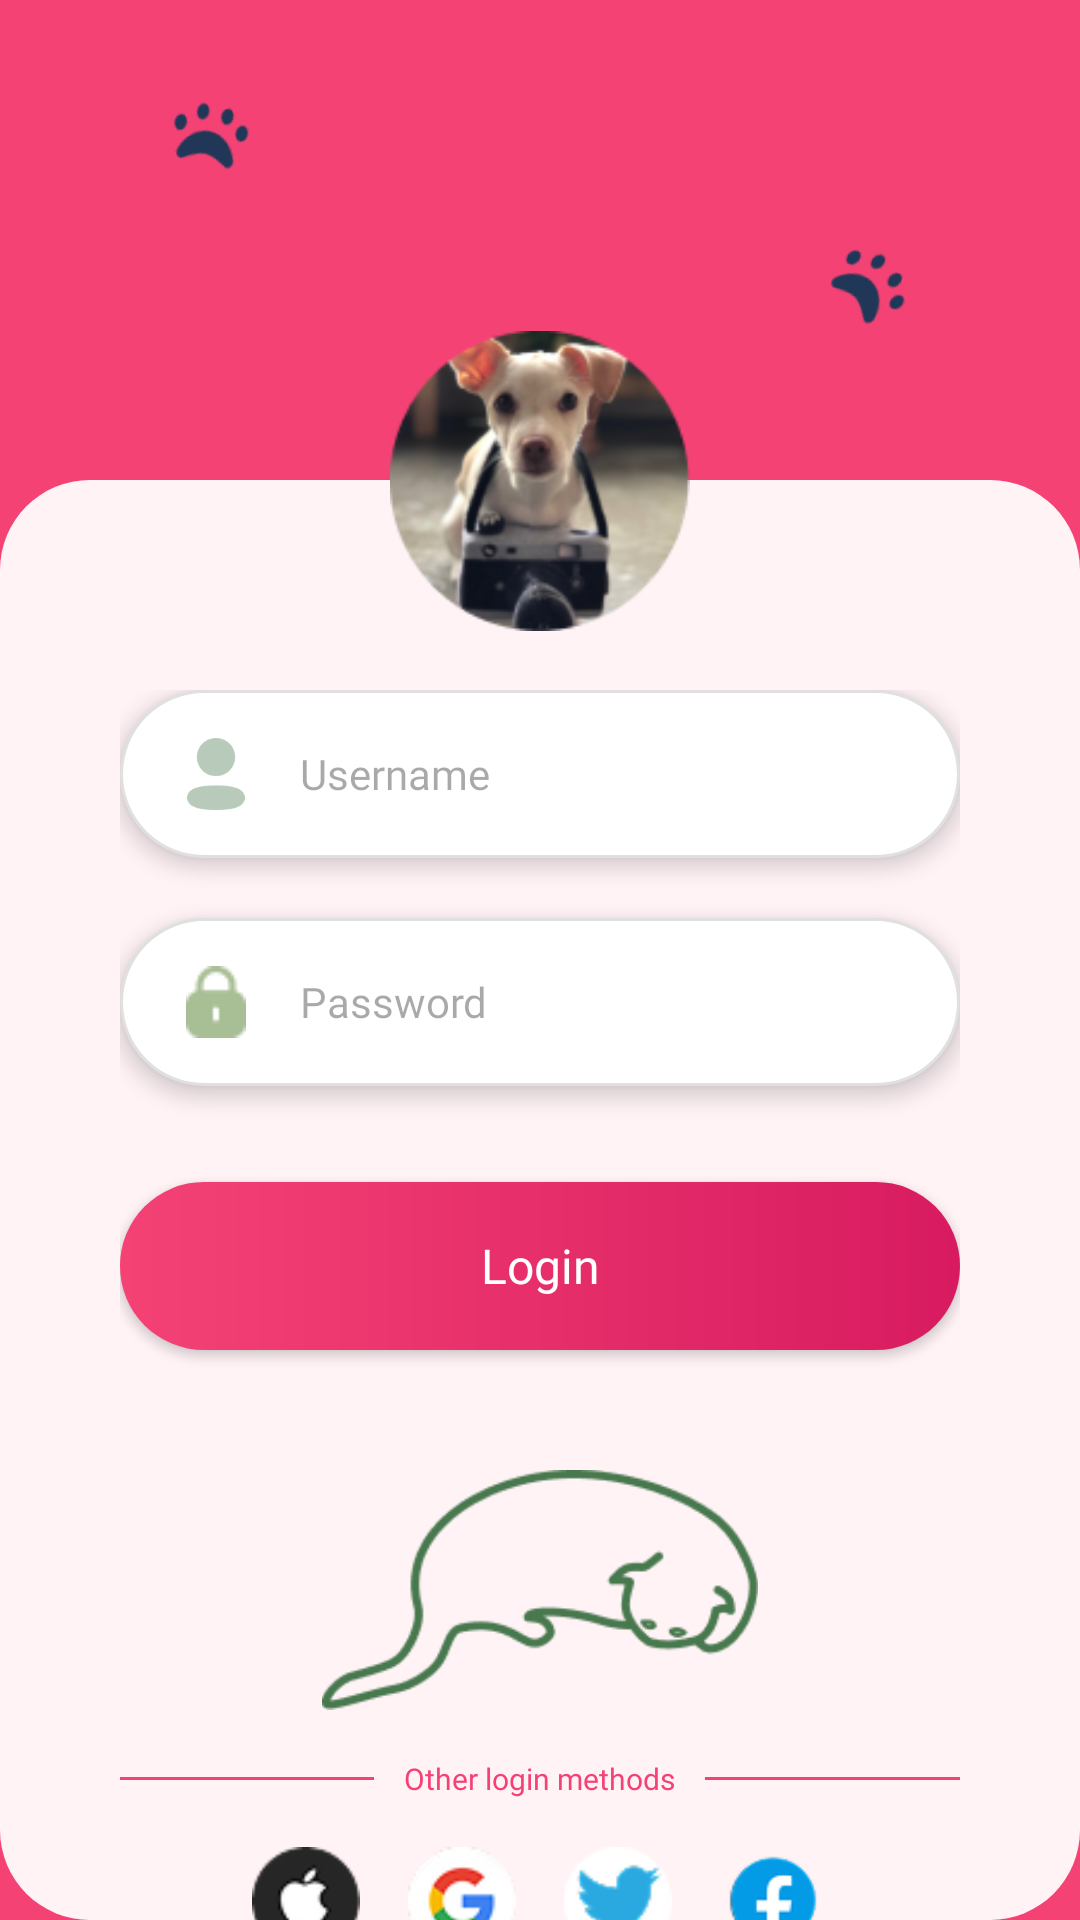

Icons on this 1080px×1920px Android screen, each with the point to tap as [x,y]:
dog profile: [540,481]
lock: [216,1002]
person: [216,774]
